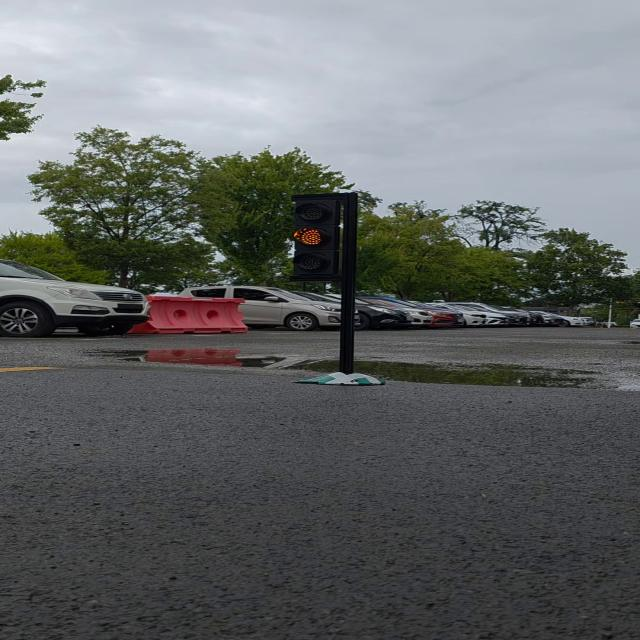yellow: (288, 191, 348, 280)
